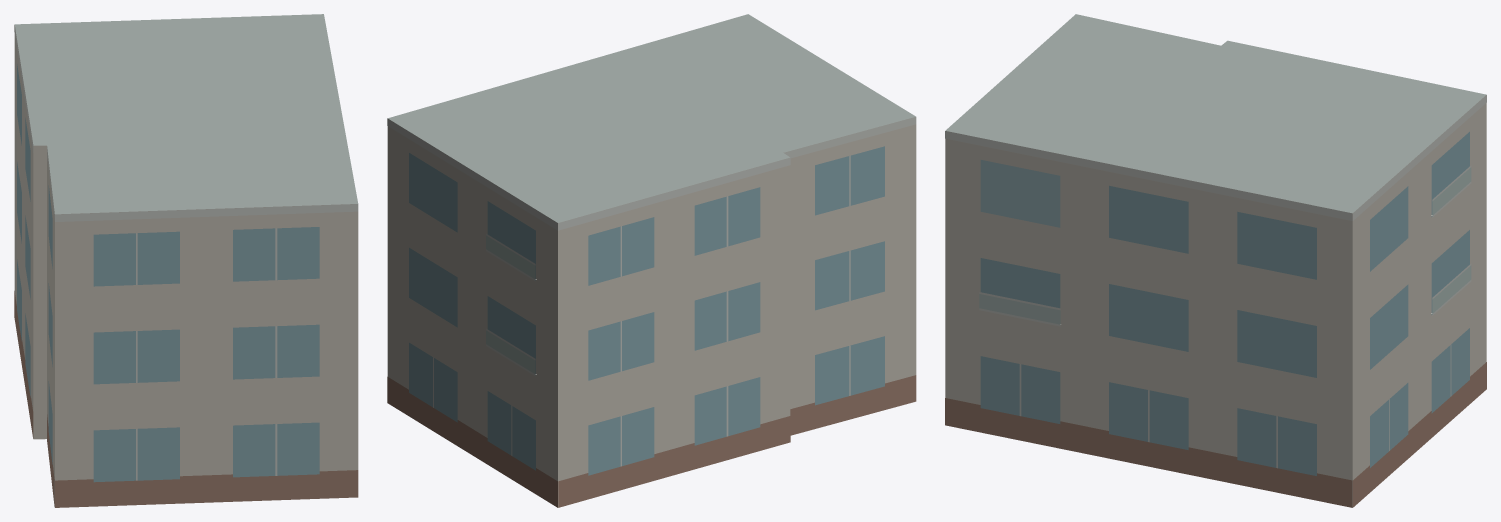
File: survey-upis-32779587.glb
The picture shows the model from 3 angles, left to right: view 1: azimuth 30°, elevation 25°; view 2: azimuth 150°, elevation 25°; view 3: azimuth 270°, elevation 25°; orthographic projection. The views are drawn at different scales.
Parts seen in each view (by area): view 1: survey-upis-32779587.tmp; view 2: survey-upis-32779587.tmp; view 3: survey-upis-32779587.tmp.
Boxes of the visible parts, bbox=[...] form: survey-upis-32779587.tmp: bbox=[14, 14, 358, 507]; survey-upis-32779587.tmp: bbox=[387, 14, 916, 507]; survey-upis-32779587.tmp: bbox=[945, 14, 1486, 507].
Size of the model in its own units: 13.29 by 9.15 by 15.26.
